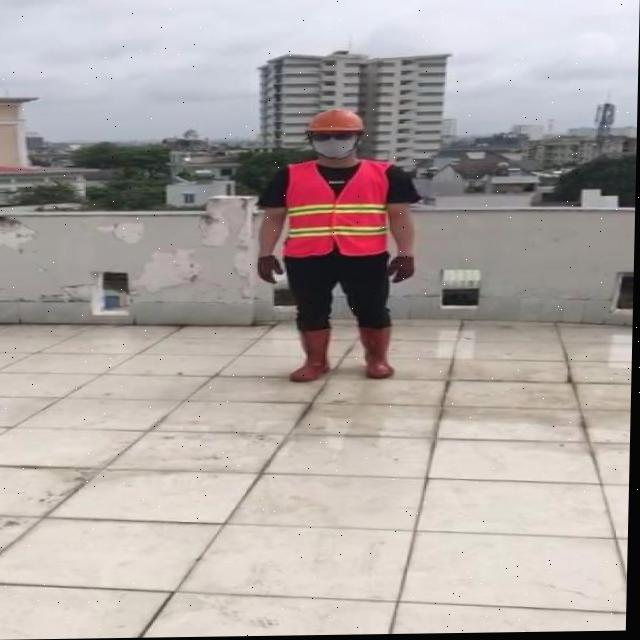Gloves: (389, 257, 417, 284), (258, 256, 285, 284)
Helmet: (305, 109, 366, 160)
Safety-Boot: (293, 327, 335, 383), (360, 325, 398, 380)
Safety-Vest: (284, 159, 395, 259)
